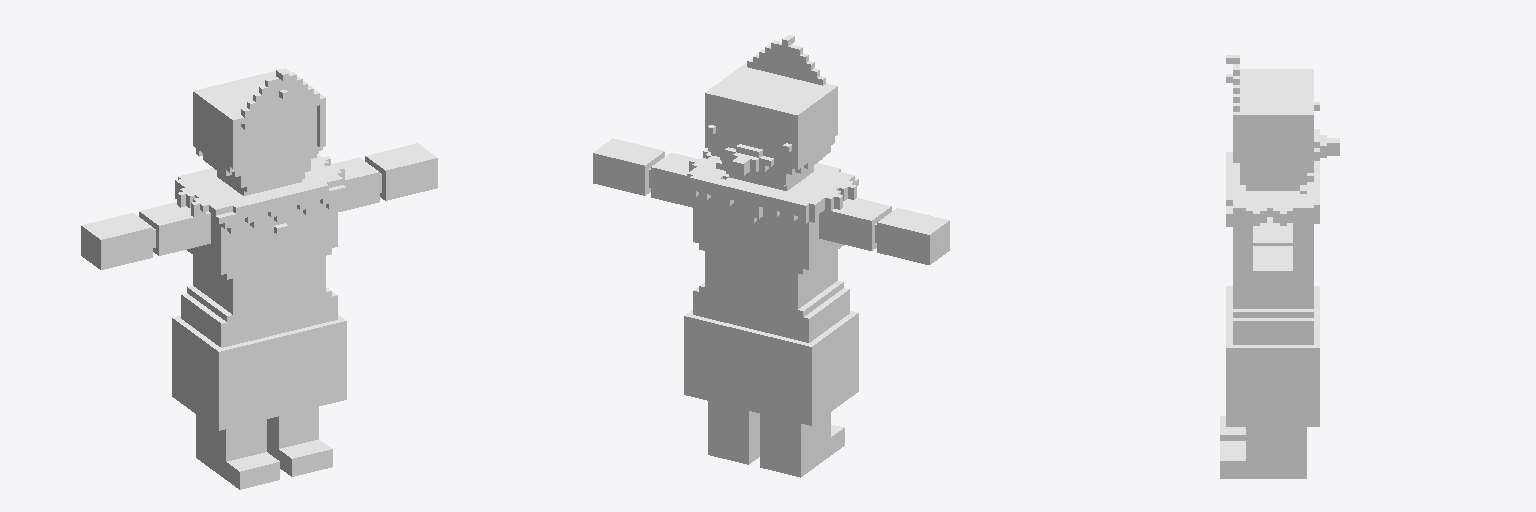
Rendered from CARO_AVATAR-1.obj.
3 renders of one model, left to right at view 1: azimuth 30°, elevation 25°; view 2: azimuth 150°, elevation 25°; view 3: azimuth 270°, elevation 25°, orthographic.
Parts seen in each view (by area): view 1: CARO_AVATAR-1; view 2: CARO_AVATAR-1; view 3: CARO_AVATAR-1.
Boxes of the visible parts, x1,y1,x2,y2 form: CARO_AVATAR-1: [81, 68, 437, 489]; CARO_AVATAR-1: [593, 35, 949, 477]; CARO_AVATAR-1: [1220, 55, 1339, 478].
Size of the model in its own units: 58 by 66 by 18.